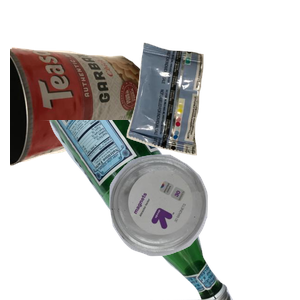glass: (37, 120, 262, 300)
metal: (10, 44, 151, 203)
plastic: (107, 152, 300, 300)
trash: (124, 40, 300, 188)
